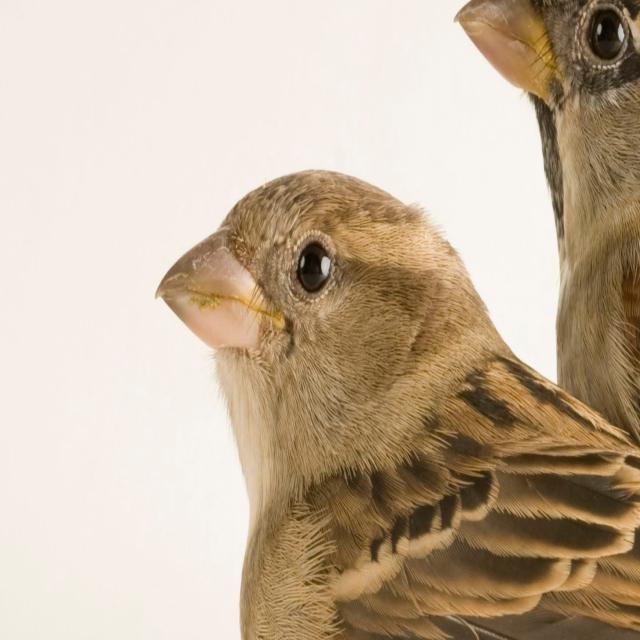Sparrow: (150, 157, 640, 640)
